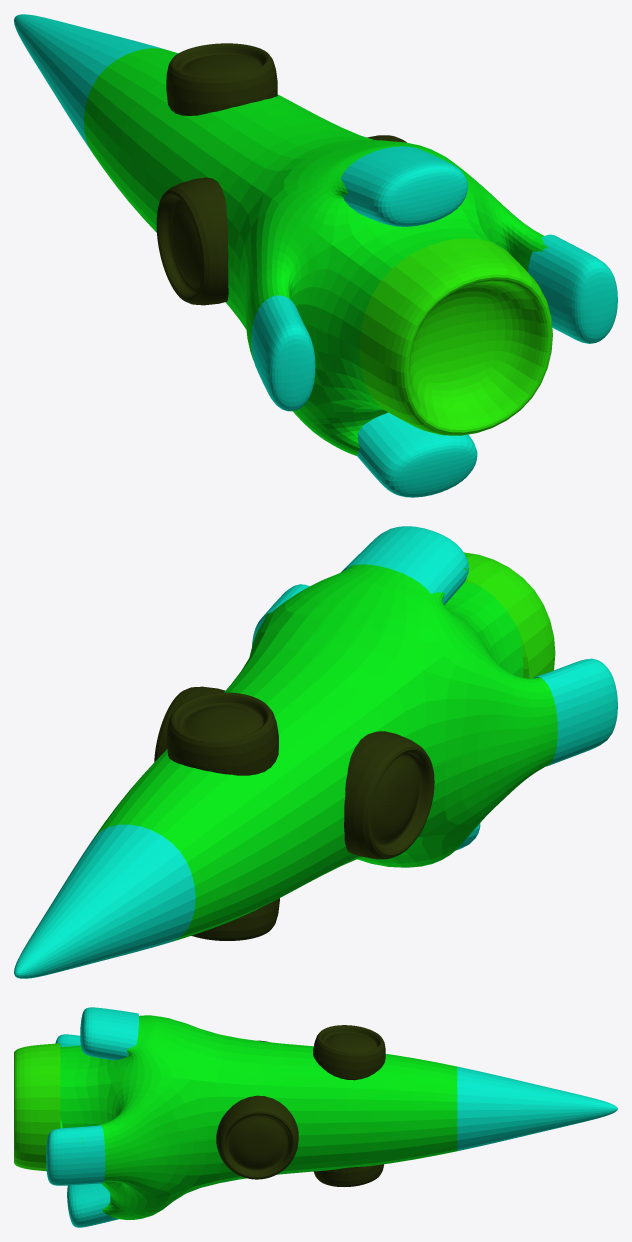
File: gol_.fbx
The picture shows the model from 3 angles, top to bottom: view 1: azimuth 30°, elevation 25°; view 2: azimuth 150°, elevation 25°; view 3: azimuth 270°, elevation 25°; orthographic projection. The views are drawn at different scales.
Parts seen in each view (by area): view 1: Cylinder, Cylinder.003, Cylinder.004, Cylinder.005, Cylinder.001, Cylinder.002; view 2: Cylinder, Cylinder.002, Cylinder.004, Cylinder.005, Cylinder.001, Cylinder.003; view 3: Cylinder, Cylinder.004, Cylinder.002, Cylinder.005, Cylinder.003, Cylinder.001.
Boxes of the visible parts, bbox=[...] form: Cylinder: bbox=[83, 48, 547, 455]; Cylinder.003: bbox=[359, 238, 552, 435]; Cylinder.004: bbox=[251, 146, 617, 497]; Cylinder.005: bbox=[156, 135, 406, 305]; Cylinder.001: bbox=[166, 43, 277, 115]; Cylinder.002: bbox=[14, 14, 165, 151]; Cylinder: bbox=[93, 564, 557, 941]; Cylinder.002: bbox=[14, 824, 195, 978]; Cylinder.004: bbox=[252, 526, 617, 850]; Cylinder.005: bbox=[154, 686, 434, 859]; Cylinder.001: bbox=[167, 692, 279, 940]; Cylinder.003: bbox=[464, 552, 555, 678]; Cylinder: bbox=[60, 1015, 457, 1219]; Cylinder.004: bbox=[46, 1007, 138, 1227]; Cylinder.002: bbox=[457, 1066, 617, 1150]; Cylinder.005: bbox=[216, 1040, 298, 1179]; Cylinder.003: bbox=[14, 1043, 60, 1171]; Cylinder.001: bbox=[313, 1025, 385, 1186].
Bounding box in the file's own units: 423 × 381 × 995.
